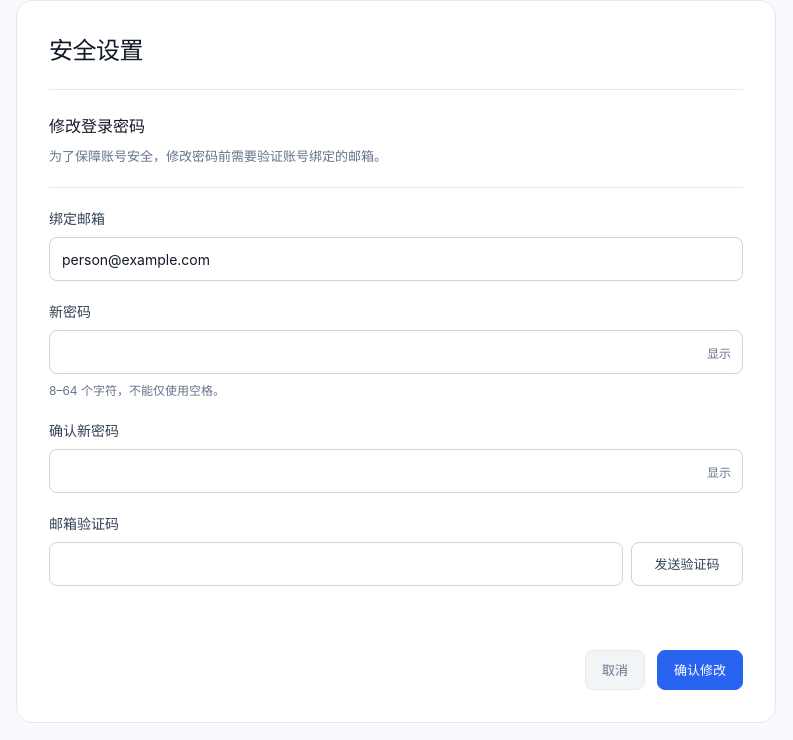
Test: SecuritySettingsPage › shows the bound account and sends a code without accepting an email input
Click the button "发送验证码".
click(687, 564)  # box x1=631 y1=542 x2=743 y2=586
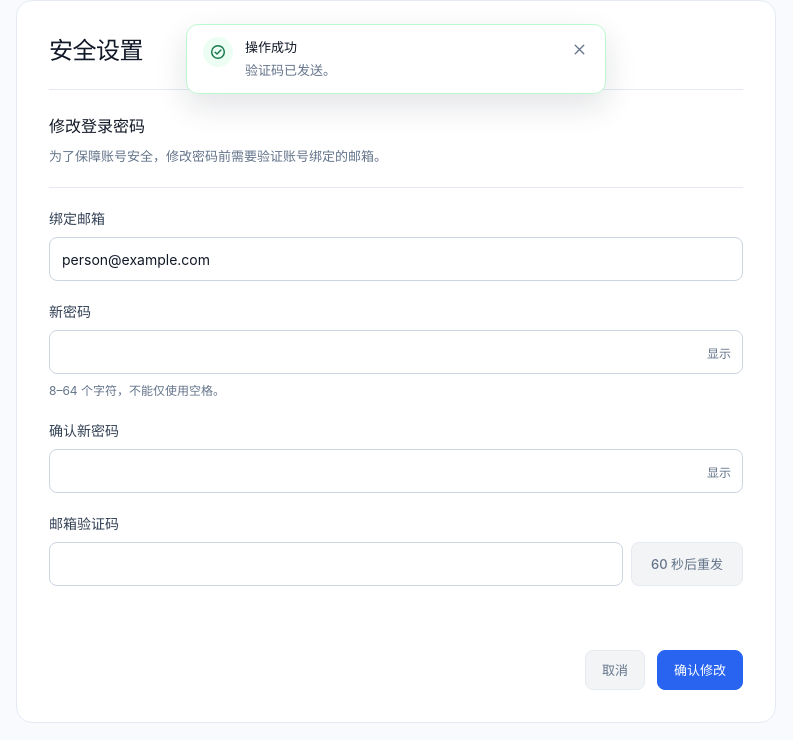
Expected: the text "验证码已发送。" is shown, x1=245 y1=62 x2=336 y2=78
Expected: the button "60 秒后重发" is disabled, x1=631 y1=542 x2=743 y2=586
